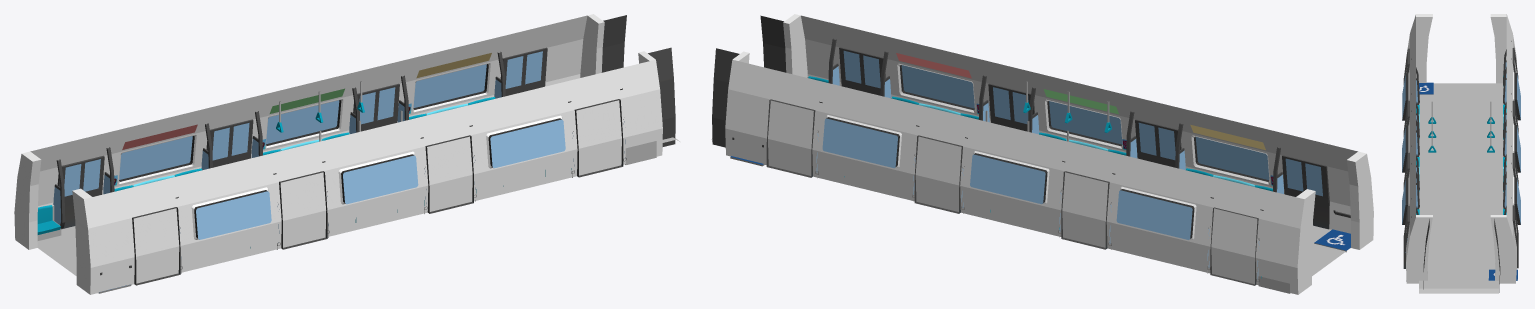
The model's file is Train Cabin 3.fbx.
3 views of the same model, side by side, from view 1: azimuth 30°, elevation 25°; view 2: azimuth 150°, elevation 25°; view 3: azimuth 270°, elevation 25° (orthographic). The views are drawn at different scales.
Visible parts, largest first — view 1: Train_cabin, pPlane1202, pCube3294, pCube3269, pCube3336, pCube3325, pPlane907, pPlane914, pCube3322, pPlane942, pCube5754, pCube3262 (+10 smaller); view 2: Train_cabin, pPlane1202, pCube3262, pCube3271, pCube3337, pCube3279, pPlane920, pPlane908, pPlane916, pCube3343, pPlane978, pPlane967 (+8 smaller); view 3: Train_cabin, pCube8950, pCube3271, pCube3269, pPlane1202, pCube3343, pCube3279, pCube3262, pCube3337, pCube3325, pCube3336, pCube3294 (+6 smaller).
Part boxes in pixels (x1,y1,x2,y2): Train_cabin: [14, 14, 662, 294]; pPlane1202: [601, 15, 675, 146]; pCube3294: [57, 155, 104, 228]; pCube3269: [500, 47, 547, 95]; pCube3336: [206, 119, 253, 167]; pCube3325: [353, 83, 399, 131]; pPlane907: [416, 53, 491, 78]; pPlane914: [122, 124, 197, 149]; pCube3322: [625, 141, 656, 164]; pPlane942: [269, 88, 344, 113]; pCube5754: [37, 205, 60, 234]; pCube3262: [132, 207, 180, 285]; Train_cabin: [725, 14, 1373, 294]; pPlane1202: [712, 15, 786, 147]; pCube3262: [1282, 155, 1329, 229]; pCube3271: [839, 47, 885, 95]; pCube3337: [1135, 119, 1181, 167]; pCube3279: [988, 83, 1034, 131]; pPlane920: [1190, 124, 1265, 150]; pPlane908: [896, 53, 971, 78]; pPlane916: [1043, 89, 1119, 114]; pCube3343: [1314, 229, 1350, 252]; pPlane978: [843, 50, 861, 83]; pPlane967: [1285, 158, 1303, 191]; Train_cabin: [1402, 14, 1520, 283]; pCube8950: [1419, 280, 1498, 293]; pCube3271: [1403, 206, 1409, 268]; pCube3269: [1512, 205, 1518, 268]; pPlane1202: [1423, 219, 1500, 292]; pCube3343: [1419, 82, 1433, 94]; pCube3279: [1403, 153, 1409, 189]; pCube3262: [1403, 48, 1409, 84]; pCube3337: [1403, 100, 1409, 136]; pCube3325: [1512, 152, 1518, 185]; pCube3336: [1512, 100, 1518, 133]; pCube3294: [1512, 47, 1518, 78].
Bounding box in the file's own units: 31.42 × 4.73 × 7.39.
Materials: 1 (1 with a texture image).
